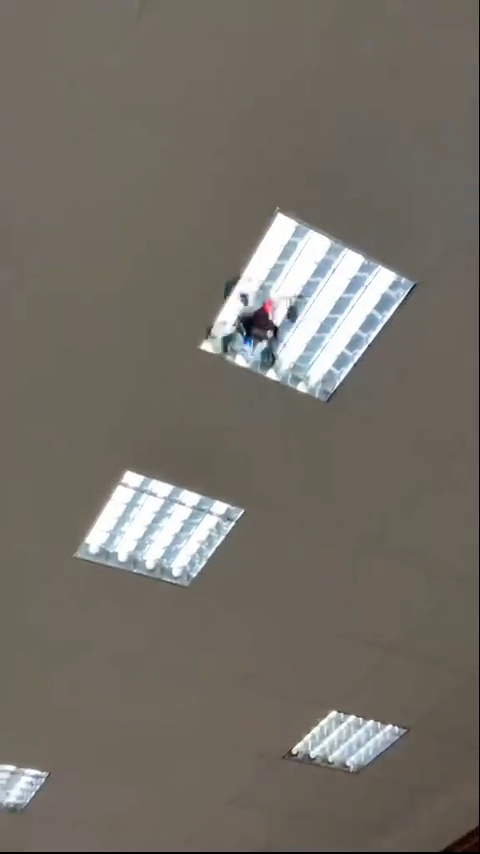drone: (202, 285, 309, 367)
